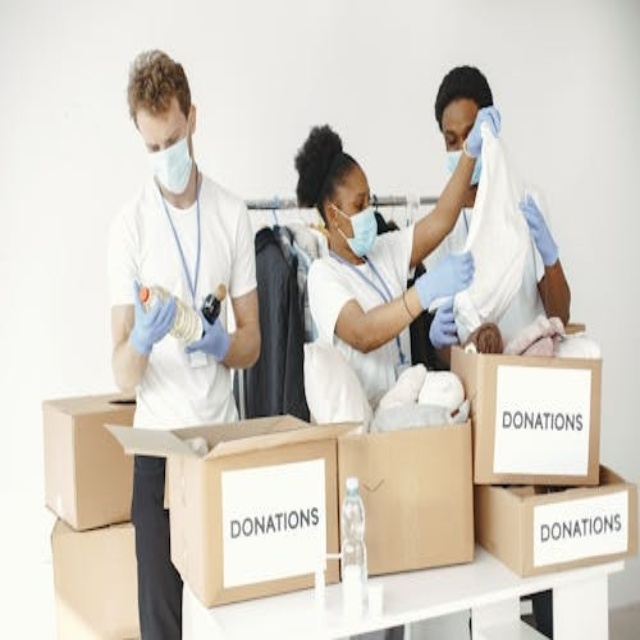Guantes: (413, 250, 474, 313), (129, 280, 177, 357), (519, 193, 559, 267), (187, 312, 230, 363), (466, 105, 502, 157), (429, 304, 460, 349)
Mascara: (149, 117, 194, 193), (334, 201, 379, 258), (446, 137, 480, 187)
Sin_gafas: (142, 127, 189, 154), (440, 123, 467, 150), (343, 190, 376, 211)
